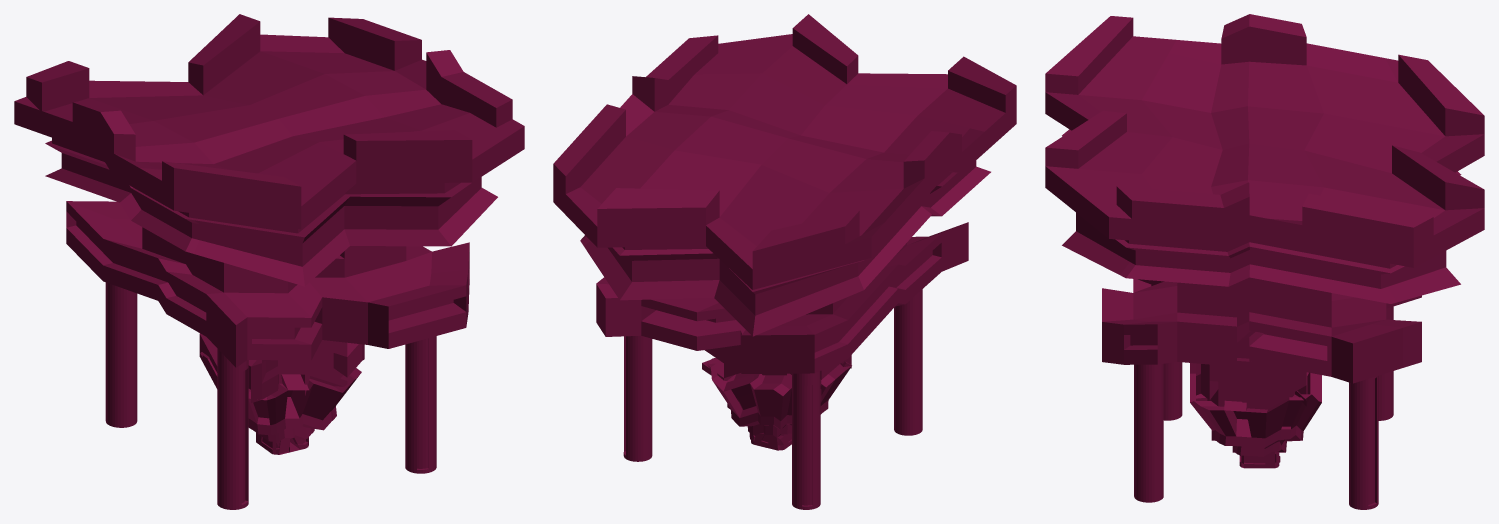
Rendered from Hepathons Headquatersfbx.fbx.
The picture shows the model from 3 angles, left to right: view 1: azimuth 30°, elevation 25°; view 2: azimuth 150°, elevation 25°; view 3: azimuth 270°, elevation 25°; orthographic projection. The views are drawn at different scales.
Visible parts, largest first — view 1: level 5, level 4, level 2, level 3, level 1; view 2: level 5, level 4, level 2, level 3, level 1; view 3: level 5, level 4, level 2, level 3, level 1.
Boxes of the visible parts, bbox=[...] form: level 5: bbox=[14, 14, 524, 233]; level 4: bbox=[45, 140, 497, 509]; level 2: bbox=[200, 352, 361, 441]; level 3: bbox=[199, 333, 364, 402]; level 1: bbox=[256, 433, 308, 454]; level 5: bbox=[553, 14, 1016, 289]; level 4: bbox=[580, 160, 990, 509]; level 2: bbox=[707, 358, 851, 437]; level 3: bbox=[702, 345, 851, 400]; level 1: bbox=[749, 432, 791, 450]; level 5: bbox=[1045, 14, 1484, 268]; level 4: bbox=[1062, 129, 1461, 509]; level 2: bbox=[1190, 363, 1321, 456]; level 3: bbox=[1196, 352, 1306, 409]; level 1: bbox=[1239, 451, 1280, 468].
Bounding box in the file's own units: 25479 × 26559 × 29376.
